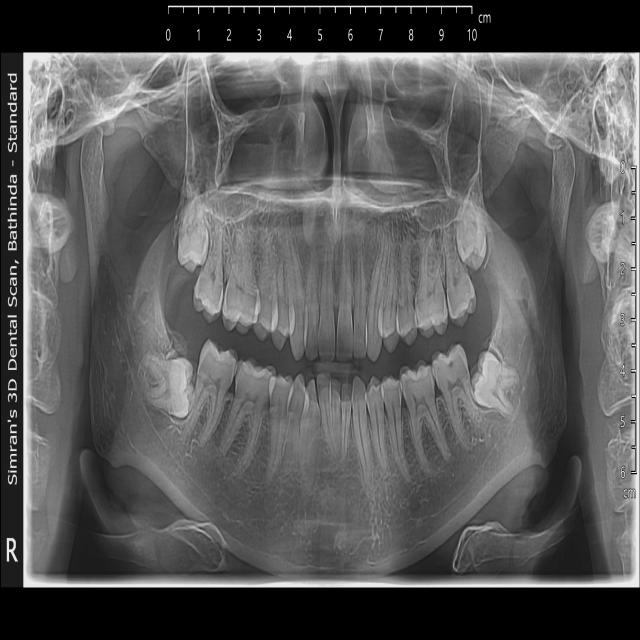Caries: (437, 345, 468, 390)
impacted tooth: (142, 355, 192, 421), (470, 350, 519, 415), (179, 206, 210, 276), (458, 204, 486, 276)
